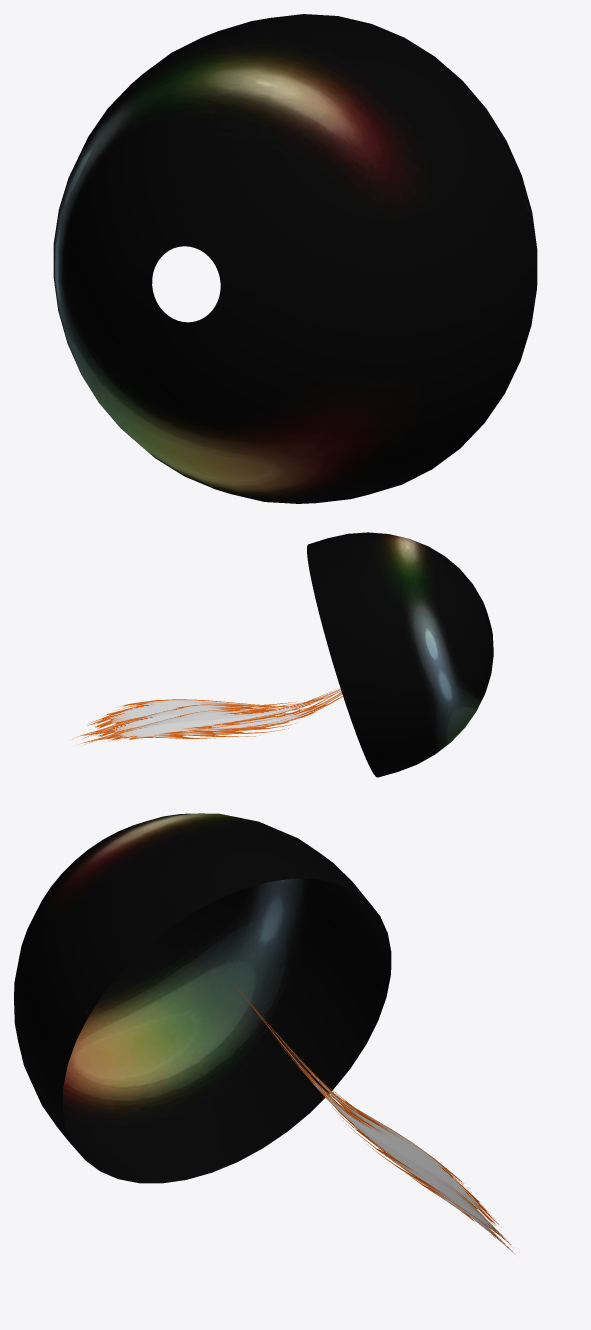
Rendered from fx_cookie0038_skill01.fbx.
3 renders of one model, top to bottom at view 1: azimuth 30°, elevation 25°; view 2: azimuth 150°, elevation 25°; view 3: azimuth 270°, elevation 25°, orthographic. The views are drawn at different scales.
Visible parts, largest first — view 1: glow; view 2: glow, L_scratch, L_scratch1; view 3: glow, L_scratch.
Part boxes in pixels (x1,y1,x2,y2): glow: [53, 14, 537, 503]; glow: [307, 532, 493, 777]; L_scratch: [72, 692, 342, 739]; L_scratch1: [78, 689, 340, 744]; glow: [14, 813, 391, 1183]; L_scratch: [235, 985, 511, 1246].
Size of the model in its own units: 702 by 374 by 545.
3 materials, 3 textured.
